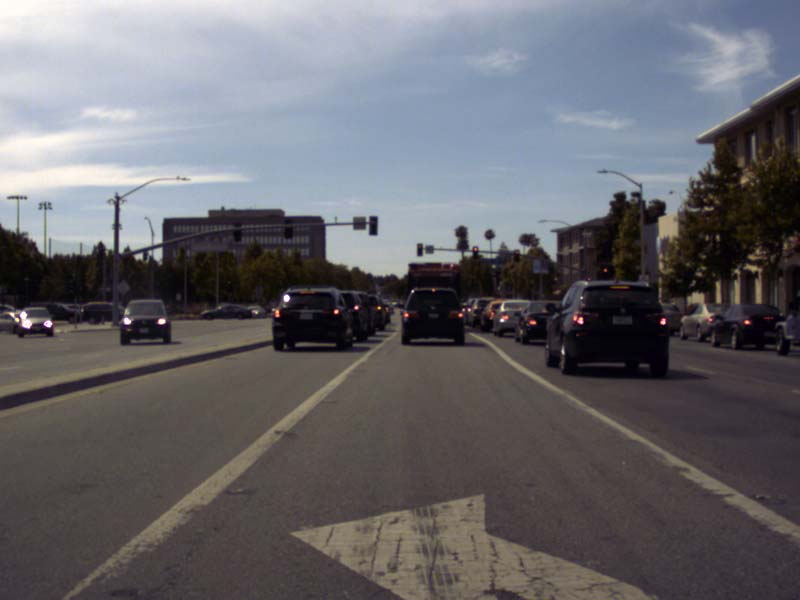Red: (601, 264, 608, 278), (514, 250, 519, 261), (473, 247, 477, 258), (417, 244, 421, 254)
